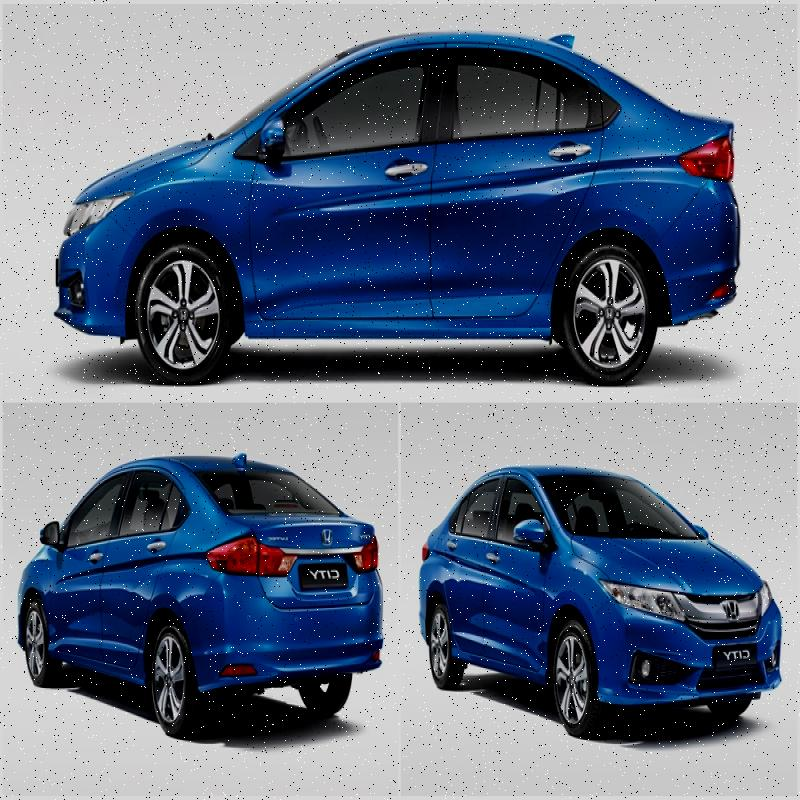car: (44, 29, 756, 377), (418, 440, 786, 737), (23, 446, 377, 744)
